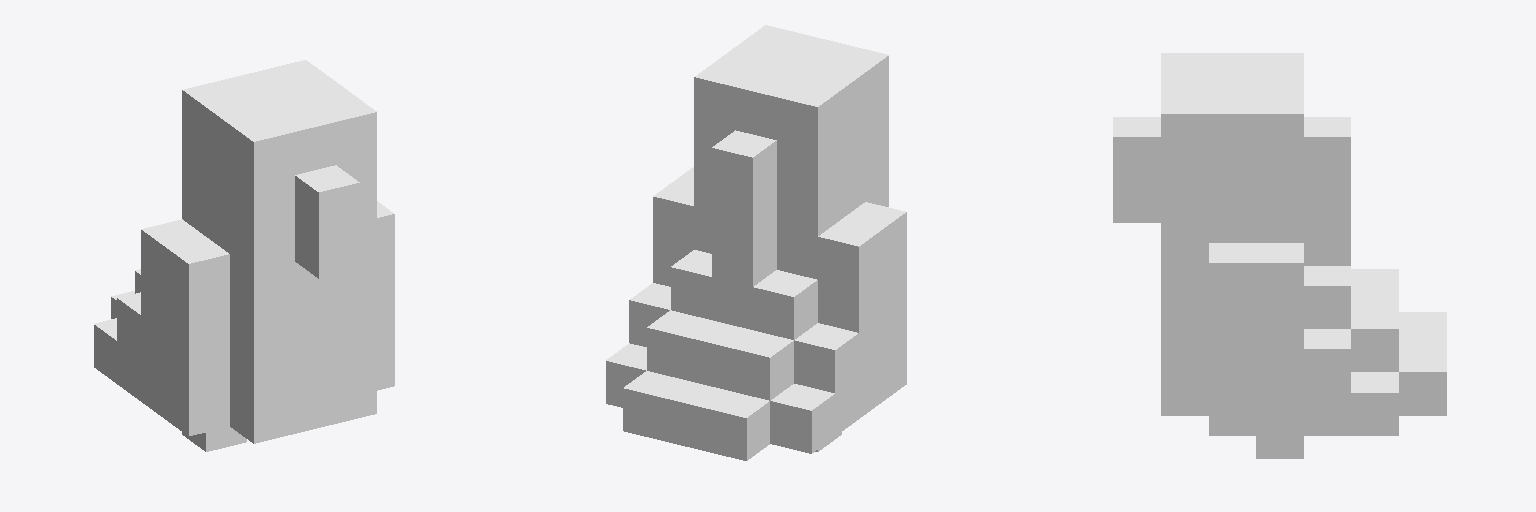
The model's file is anim_parrot_01.obj.
3 views of the same model, side by side, from view 1: azimuth 30°, elevation 25°; view 2: azimuth 150°, elevation 25°; view 3: azimuth 270°, elevation 25° (orthographic).
Size of the model in its own units: 5 by 8 by 7.